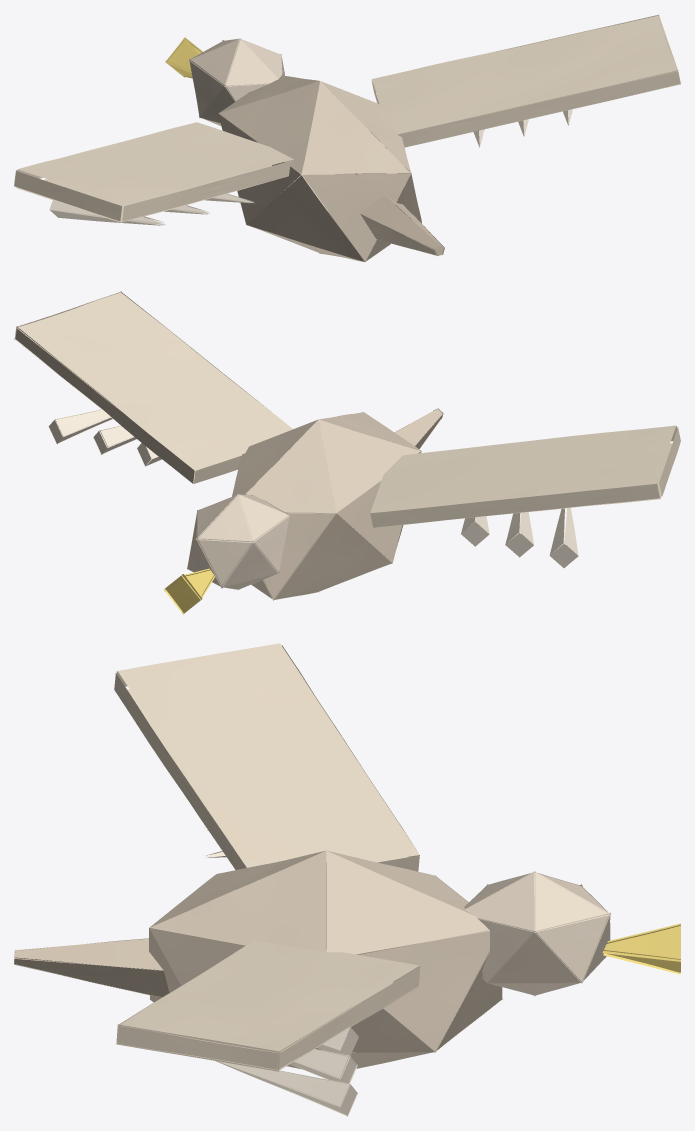
File: harpy.glb
The picture shows the model from 3 angles, top to bottom: view 1: azimuth 30°, elevation 25°; view 2: azimuth 150°, elevation 25°; view 3: azimuth 270°, elevation 25°; orthographic projection. The views are drawn at different scales.
Parts seen in each view (by area): view 1: HarpyBody; view 2: HarpyBody; view 3: HarpyBody.
Part boxes in pixels (<box>): HarpyBody: <box>14,14,680,262</box>; HarpyBody: <box>14,291,680,614</box>; HarpyBody: <box>14,643,680,1116</box>.
Size of the model in its own units: 2.33 by 0.6066 by 1.6.
